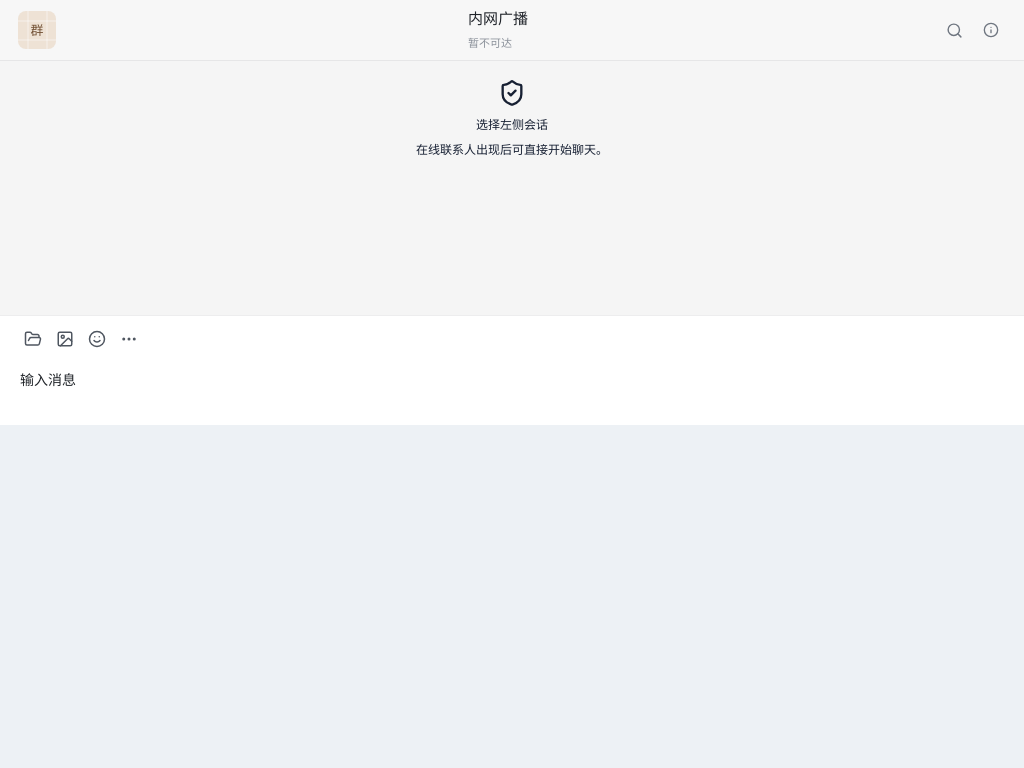
Scenario: ChatWorkspace composer toolbar › closes the expression picker when clicking outside the composer
Click the button named "表情". click: (97, 339)
box: [82,324,112,354]
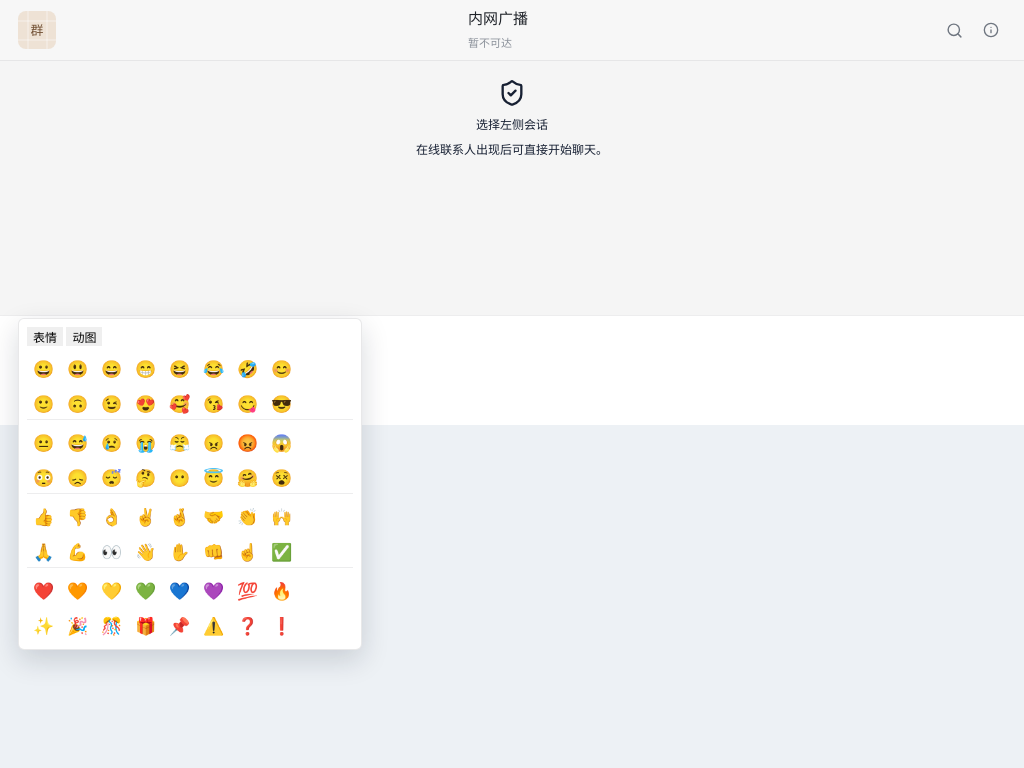
Click the element that starts with "内网广播". click: (512, 384)
box: [0,0,1023,767]
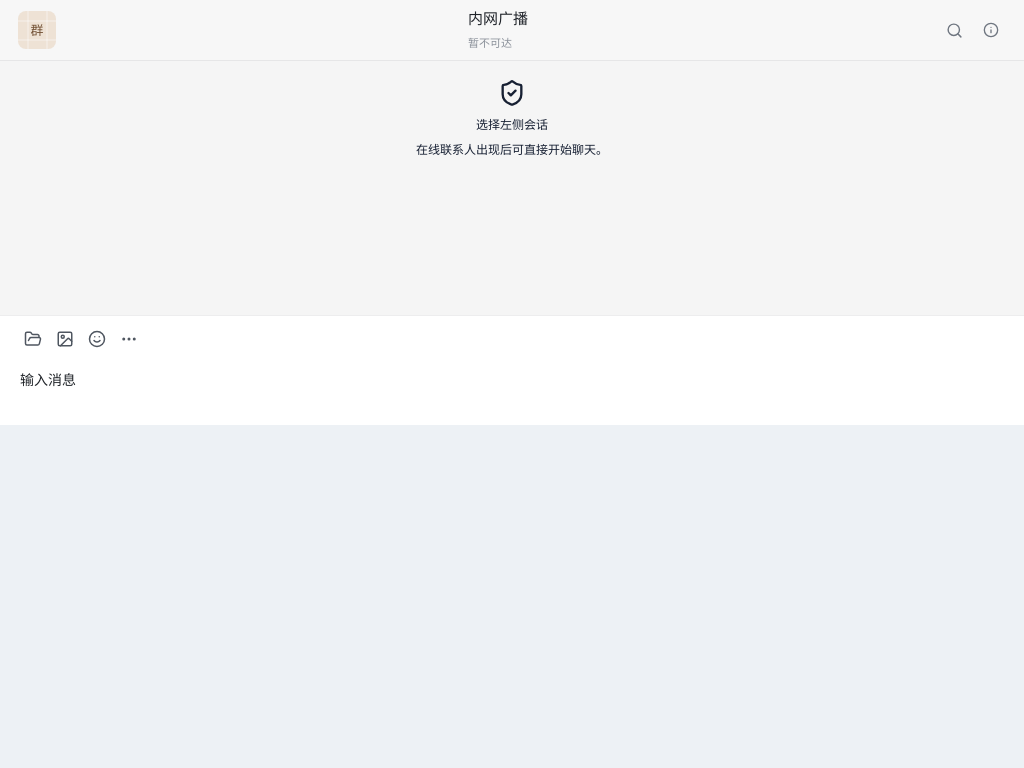
Now the menu "表情 动图 😀 😃 😄 😁 😆 😂 🤣 😊 🙂 🙃 😉 😍 🥰 😘 😋 😎" is gone
